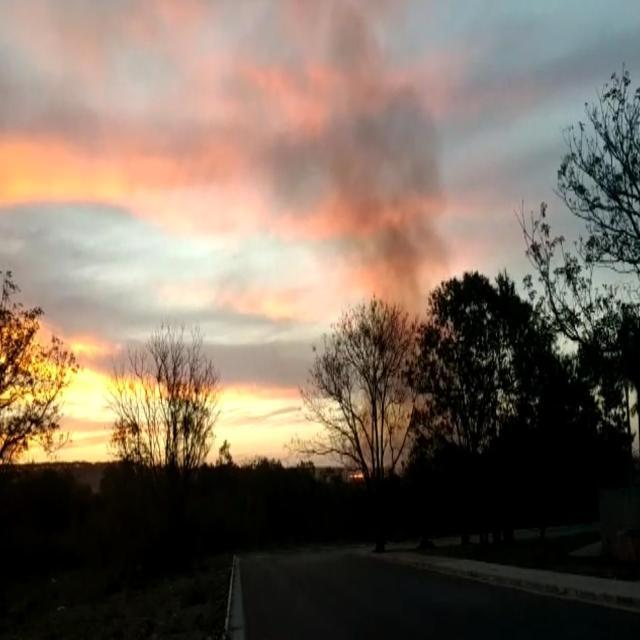Smoke: (290, 16, 448, 306)
